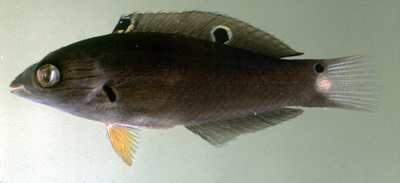fish: (9, 9, 383, 168)
